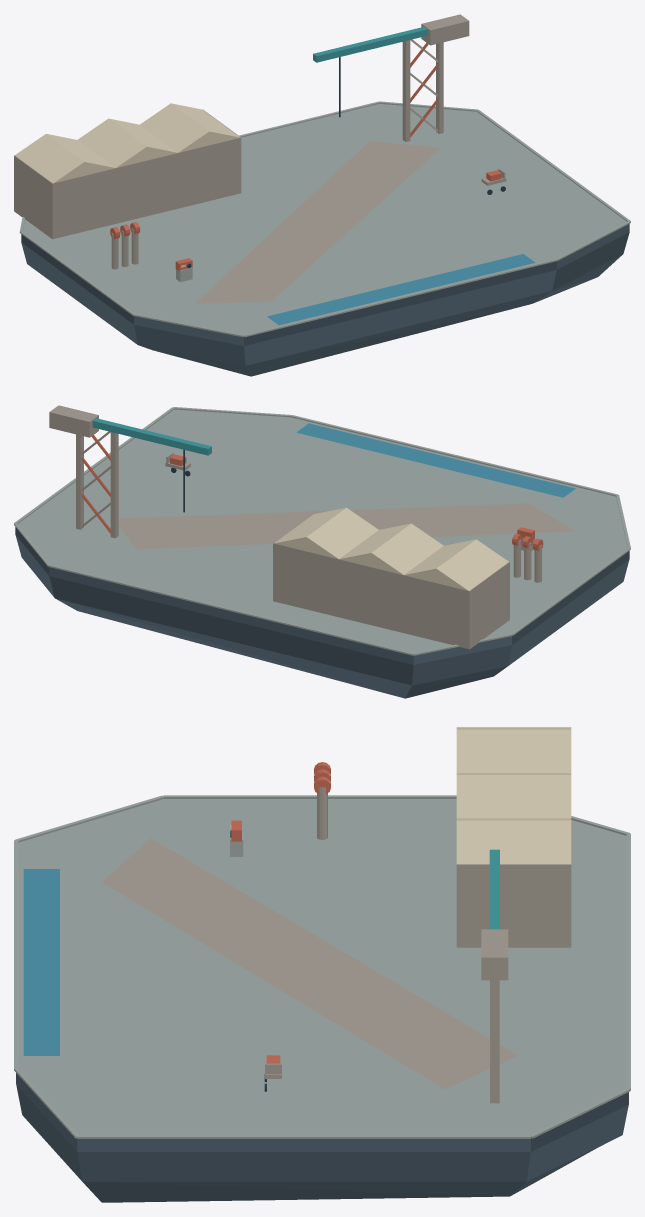
File: fi09-riverside-works.glb
3 views of the same model, one above another, from view 1: azimuth 30°, elevation 25°; view 2: azimuth 150°, elevation 25°; view 3: azimuth 270°, elevation 25° (orthographic). The views are drawn at different scales.
Visible parts, largest first — view 1: GEO_ground, GEO_foundation, LAND_0_factory, GEO_forecourt, LAND_1_crane, GEO_rim, GEO_water, LAND_2_pipes; view 2: GEO_ground, LAND_0_factory, GEO_foundation, GEO_forecourt, LAND_1_crane, GEO_rim, GEO_water, LAND_2_pipes; view 3: GEO_ground, GEO_foundation, GEO_forecourt, LAND_0_factory, GEO_rim, GEO_water, LAND_1_crane, LAND_2_pipes.
Boxes of the visible parts, x1,y1,x2,y2 form: GEO_ground: [23, 104, 626, 334]; GEO_foundation: [21, 224, 629, 376]; LAND_0_factory: [14, 103, 241, 239]; GEO_forecourt: [194, 141, 440, 304]; LAND_1_crane: [313, 14, 469, 141]; GEO_rim: [19, 101, 630, 337]; GEO_water: [267, 254, 535, 325]; LAND_2_pipes: [110, 222, 140, 269]; GEO_ground: [18, 409, 627, 652]; LAND_0_factory: [273, 507, 509, 649]; GEO_foundation: [15, 527, 629, 698]; GEO_forecourt: [118, 503, 574, 549]; LAND_1_crane: [49, 405, 211, 538]; GEO_rim: [14, 407, 630, 655]; GEO_water: [296, 423, 575, 497]; LAND_2_pipes: [512, 533, 543, 582]; GEO_ground: [18, 799, 626, 1135]; GEO_foundation: [16, 1073, 628, 1202]; GEO_forecourt: [102, 838, 517, 1089]; LAND_0_factory: [456, 727, 571, 947]; GEO_rim: [14, 795, 630, 1138]; GEO_water: [23, 869, 59, 1055]; LAND_1_crane: [481, 849, 508, 1103]; LAND_2_pipes: [314, 762, 330, 839].
Size of the model in its own units: 42.22 by 14.05 by 32.22.
